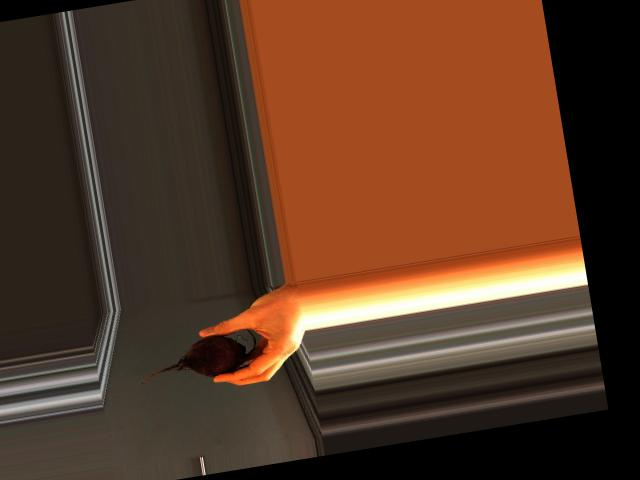beet: (129, 328, 259, 388)
